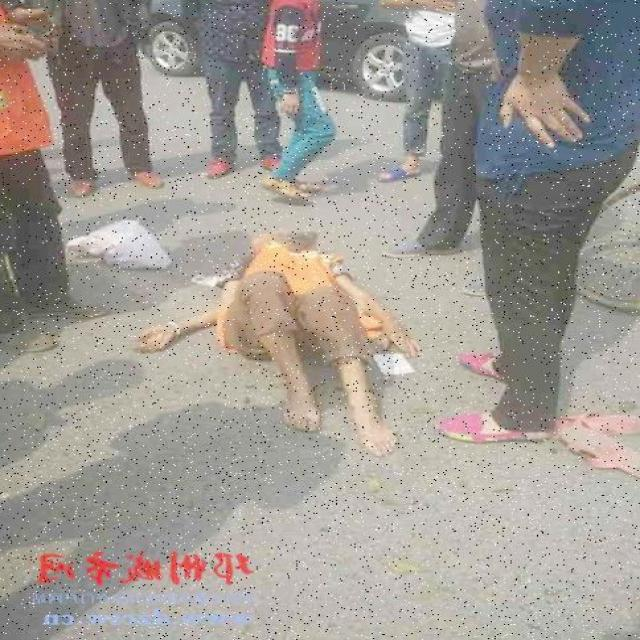fall: (159, 225, 418, 453)
